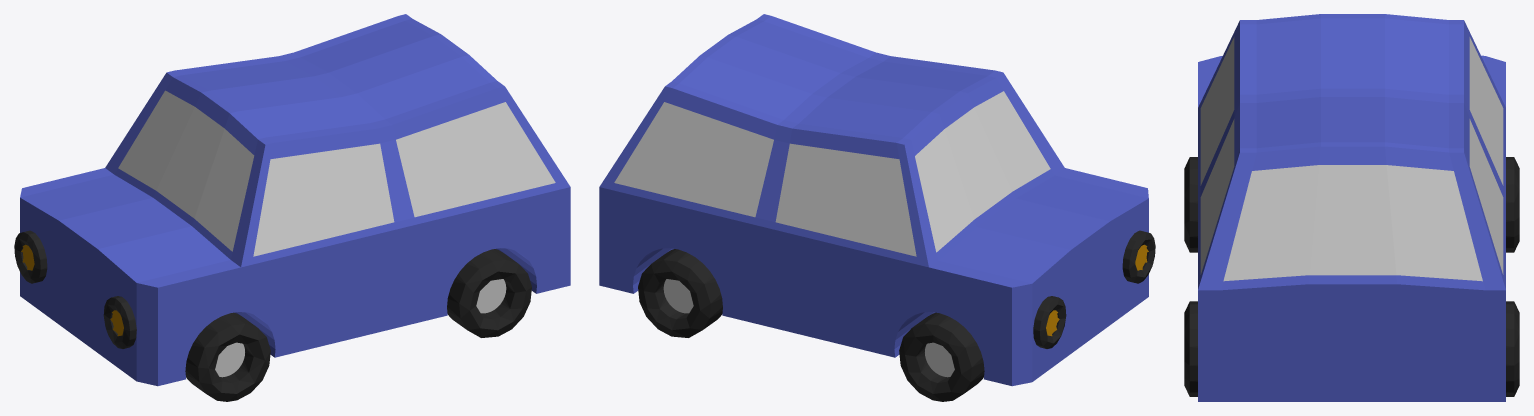
Rendered from car_1.fbx.
3 views of the same model, side by side, from view 1: azimuth 30°, elevation 25°; view 2: azimuth 150°, elevation 25°; view 3: azimuth 270°, elevation 25° (orthographic). The views are drawn at different scales.
Visible parts, largest first — view 1: car_1, wheel_1_R, wheel_2_R; view 2: car_1, wheel_1_L, wheel_2_L; view 3: car_1, wheel_2_L, wheel_2_R, wheel_1_L, wheel_1_R.
Boxes of the visible parts, x1=… form: car_1: x1=14, y1=14, x2=570, y2=386; wheel_1_R: x1=185, y1=312, x2=270, y2=401; wheel_2_R: x1=447, y1=249, x2=531, y2=337; car_1: x1=599, y1=14, x2=1155, y2=386; wheel_1_L: x1=899, y1=312, x2=984, y2=401; wheel_2_L: x1=638, y1=249, x2=722, y2=337; car_1: x1=1198, y1=14, x2=1505, y2=401; wheel_2_L: x1=1506, y1=301, x2=1519, y2=396; wheel_2_R: x1=1184, y1=301, x2=1197, y2=396; wheel_1_L: x1=1506, y1=157, x2=1519, y2=252; wheel_1_R: x1=1184, y1=157, x2=1197, y2=252.
Bounding box in the file's own units: 351 × 180 × 208.
